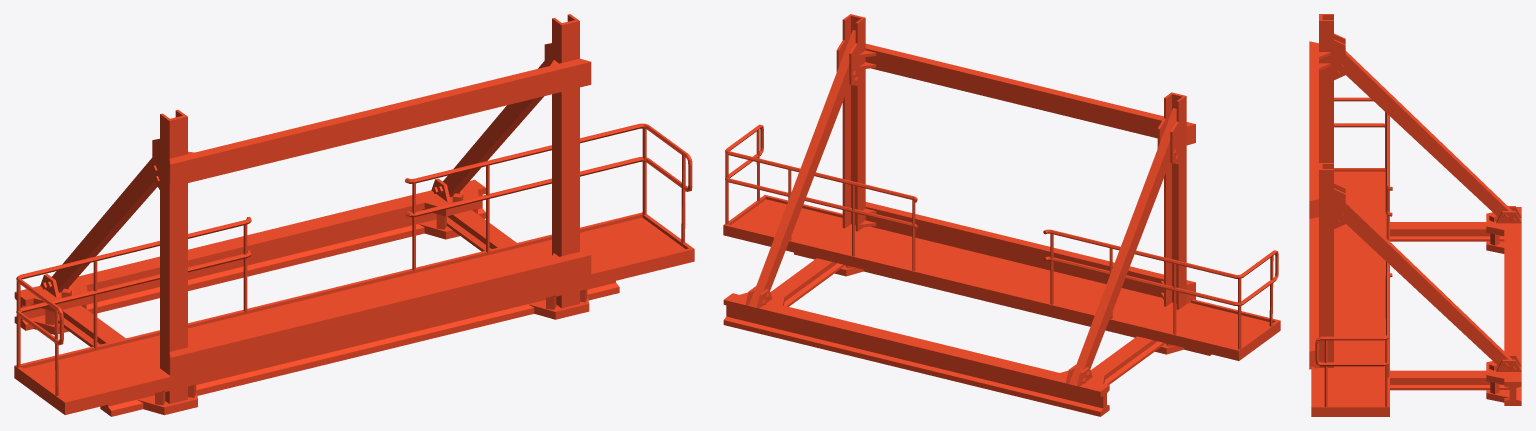
File: SM_Billboard_F_Stand_City.fbx
3 renders of one model, left to right at view 1: azimuth 30°, elevation 25°; view 2: azimuth 150°, elevation 25°; view 3: azimuth 270°, elevation 25°, orthographic. The views are drawn at different scales.
Visible parts, largest first — view 1: SM_Billboard_F_Stand_City; view 2: SM_Billboard_F_Stand_City; view 3: SM_Billboard_F_Stand_City.
Part boxes in pixels (left/top/right/bottom): SM_Billboard_F_Stand_City: left=14, top=14, right=694, bottom=416; SM_Billboard_F_Stand_City: left=723, top=14, right=1280, bottom=416; SM_Billboard_F_Stand_City: left=1309, top=14, right=1521, bottom=416.
Size of the model in its own units: 5.29 by 2.32 by 1.97.
